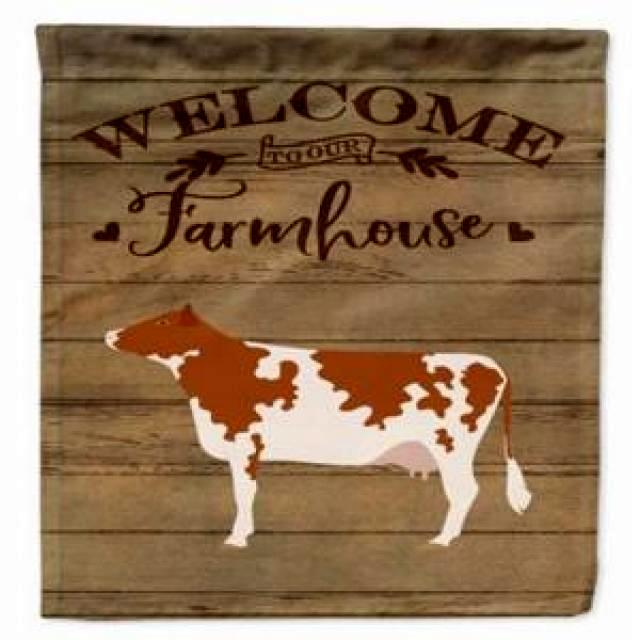COW: (106, 306, 531, 546)
